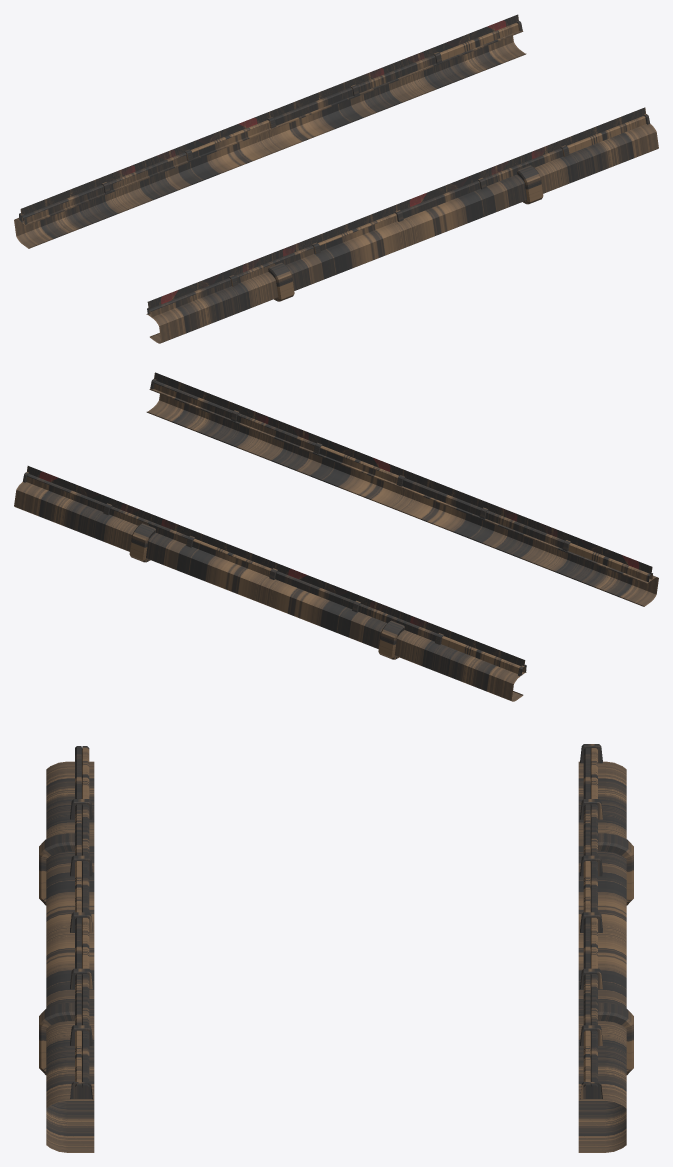
The model's file is Mur_D_8.fbx.
3 renders of one model, top to bottom at view 1: azimuth 30°, elevation 25°; view 2: azimuth 150°, elevation 25°; view 3: azimuth 270°, elevation 25°, orthographic. The views are drawn at different scales.
Visible parts, largest first — view 1: polySurface244; view 2: polySurface244; view 3: polySurface244.
Boxes of the visible parts, left/top/right/bottom form: polySurface244: left=14, top=14, right=658, bottom=343; polySurface244: left=14, top=372, right=658, bottom=701; polySurface244: left=39, top=744, right=633, bottom=1152.
Size of the model in its own units: 30.02 by 6.41 by 15.38.
